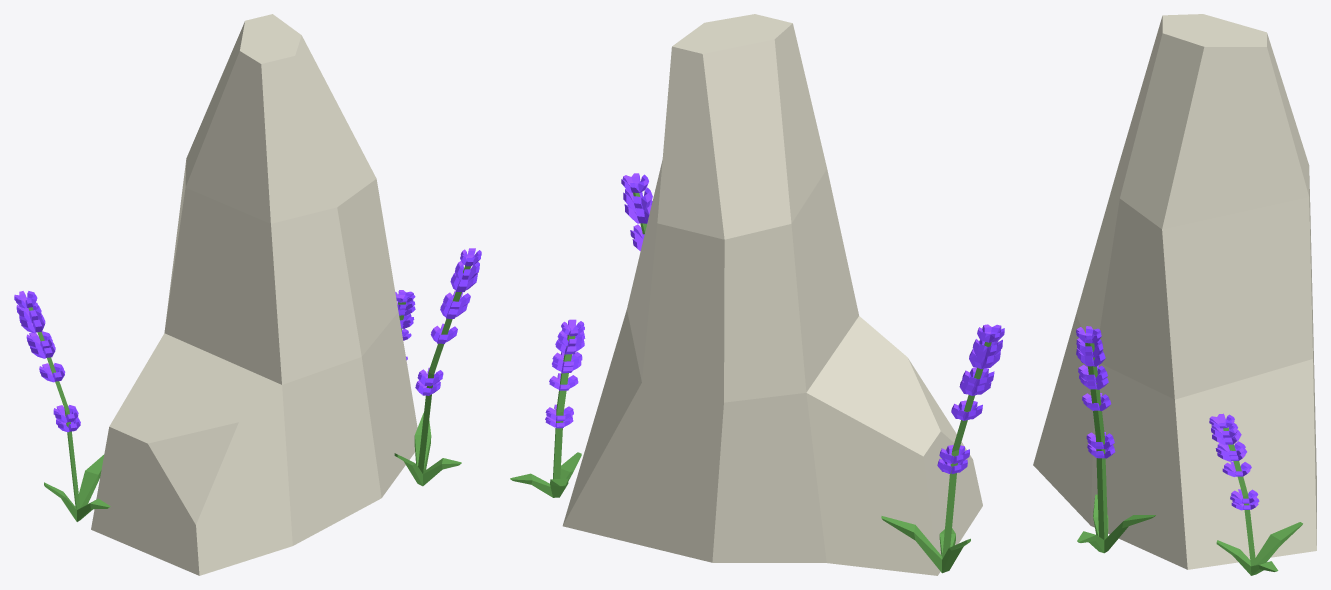
Rendered from HardSkills.glb.
3 views of the same model, side by side, from view 1: azimuth 30°, elevation 25°; view 2: azimuth 150°, elevation 25°; view 3: azimuth 270°, elevation 25° (orthographic). The views are drawn at different scales.
Visible parts, largest first — view 1: Big_Rock, Lavender3, Lavender4, Lavender5; view 2: Big_Rock, Lavender3, Lavender5, Lavender4; view 3: Big_Rock, Lavender4, Lavender5.
Part boxes in pixels (x1,y1,x2,y2): Big_Rock: [91, 14, 417, 575]; Lavender3: [14, 291, 110, 521]; Lavender4: [394, 248, 481, 486]; Lavender5: [395, 290, 415, 360]; Big_Rock: [562, 14, 982, 575]; Lavender3: [881, 324, 1004, 573]; Lavender5: [510, 319, 585, 497]; Lavender4: [621, 173, 652, 251]; Big_Rock: [1033, 14, 1316, 569]; Lavender4: [1076, 326, 1155, 553]; Lavender5: [1209, 413, 1302, 575].
Bounding box in the file's own units: 1.32 × 1.34 × 0.7213.
Materials: 1 (1 with a texture image).
